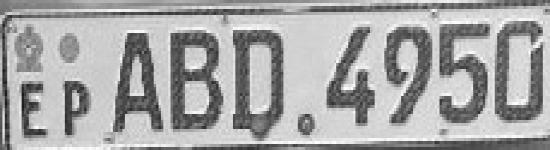0: (496, 12, 545, 130)
4: (320, 20, 377, 131)
5: (435, 15, 493, 127)
9: (379, 16, 436, 132)
A: (104, 25, 165, 139)
B: (167, 27, 226, 134)
D: (229, 23, 288, 133)
E: (18, 74, 54, 141)
P: (59, 72, 93, 140)
